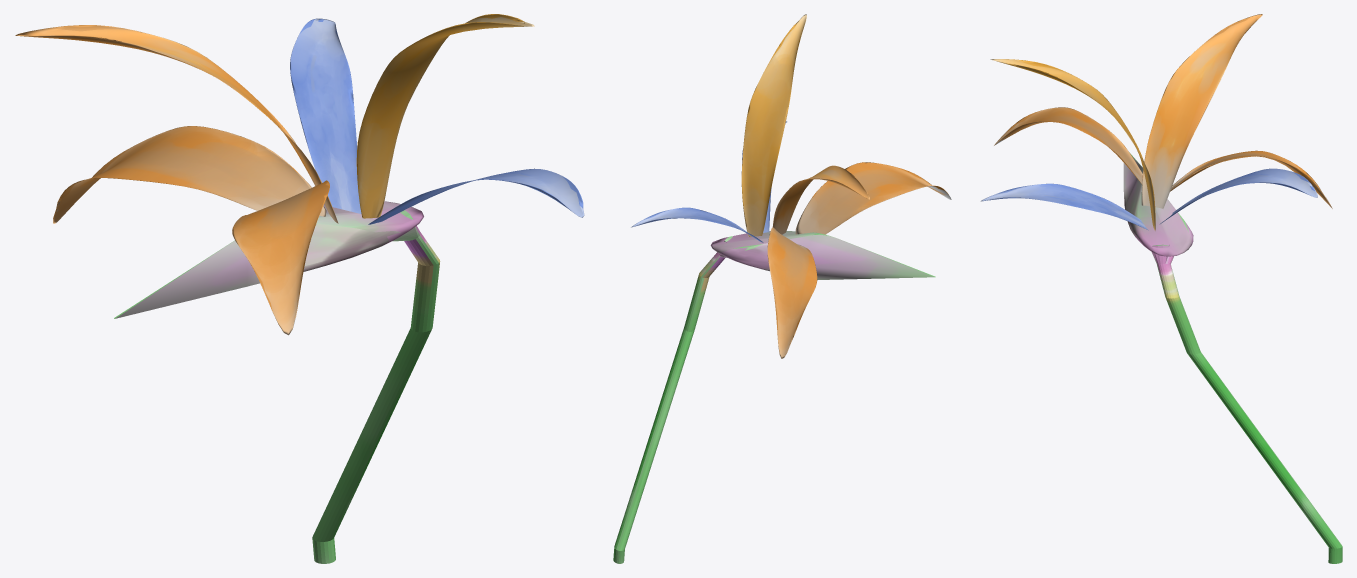
The model's file is 天堂鳥.fbx.
The picture shows the model from 3 angles, left to right: view 1: azimuth 30°, elevation 25°; view 2: azimuth 150°, elevation 25°; view 3: azimuth 270°, elevation 25°; orthographic projection. The views are drawn at different scales.
Parts seen in each view (by area): view 1: 花頭, 葉子2, 葉子3, 葉子4, 葉子6, 葉子1, 葉子007; view 2: 花頭, 葉子4, 葉子6, 葉子2, 葉子1, 葉子3; view 3: 花頭, 葉子1, 葉子007, 葉子6, 葉子4, 葉子3, 葉子2.
Boxes of the visible parts, x1,y1,x2,y2 form: 花頭: [114, 201, 440, 563]; 葉子2: [53, 126, 326, 223]; 葉子3: [290, 18, 361, 213]; 葉子4: [356, 14, 534, 218]; 葉子6: [232, 180, 329, 335]; 葉子1: [15, 25, 338, 223]; 葉子007: [368, 168, 584, 224]; 花頭: [613, 231, 935, 563]; 葉子4: [741, 14, 806, 236]; 葉子6: [795, 162, 951, 234]; 葉子2: [767, 227, 817, 358]; 葉子1: [772, 165, 870, 234]; 葉子3: [631, 207, 763, 242]; 花頭: [1123, 152, 1342, 563]; 葉子1: [1141, 14, 1262, 208]; 葉子007: [980, 183, 1148, 230]; 葉子6: [994, 107, 1142, 184]; 葉子4: [990, 59, 1155, 230]; 葉子3: [1160, 168, 1317, 223]; 葉子2: [1170, 150, 1332, 208].
Size of the model in its own units: 89.38 by 166 by 112.
5 materials, 5 textured.
